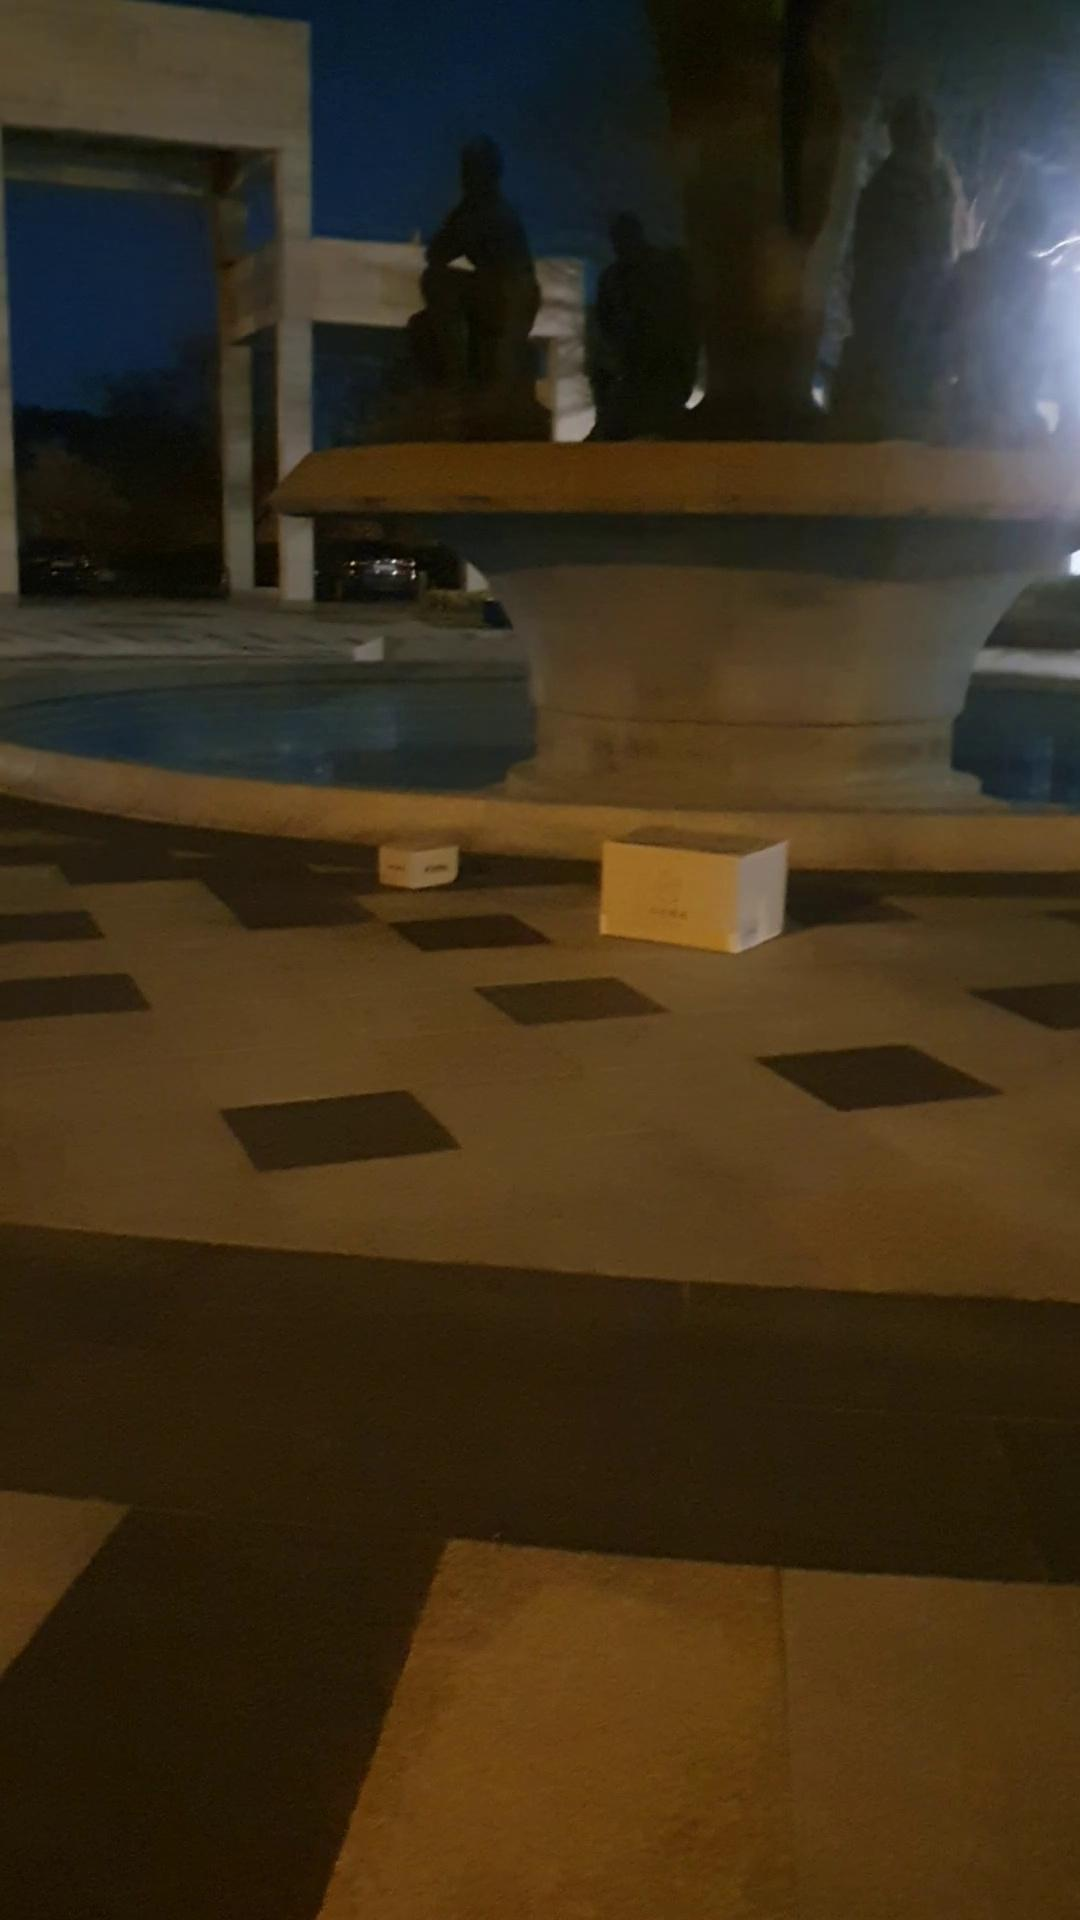Box: (582, 823, 804, 963), (351, 820, 488, 907)
